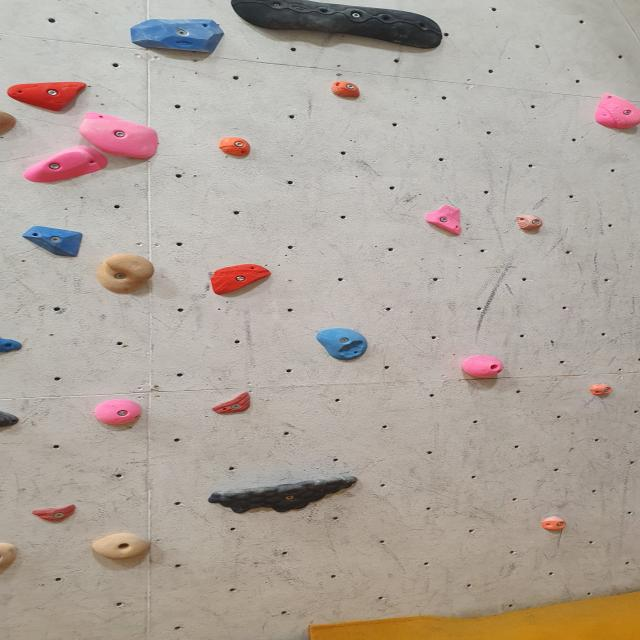Crimp: (132, 19, 227, 54), (31, 146, 104, 185), (7, 80, 87, 113), (592, 90, 640, 134), (210, 261, 270, 295), (422, 206, 469, 235), (209, 391, 256, 416), (32, 506, 80, 522), (0, 408, 21, 430)
Jug: (209, 476, 363, 516), (76, 114, 161, 162), (97, 255, 156, 291), (92, 532, 152, 560)
Pinch: (459, 354, 506, 382), (98, 400, 139, 426), (214, 136, 253, 158), (329, 79, 365, 100), (516, 213, 546, 233), (540, 514, 568, 534), (590, 384, 612, 398)
Sloper: (229, 0, 445, 51), (22, 225, 82, 258), (317, 328, 374, 362)
